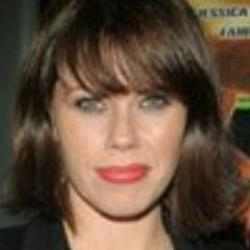face: (10, 8, 241, 239)
